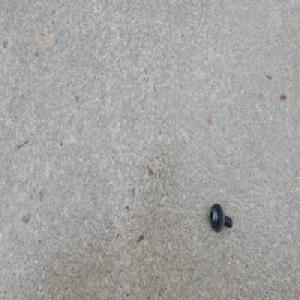BoltWasher: (210, 200, 234, 231)
